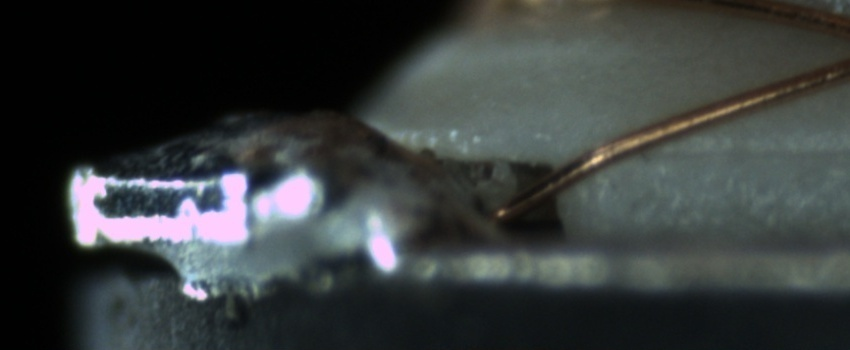DL: (618, 118, 849, 184)
